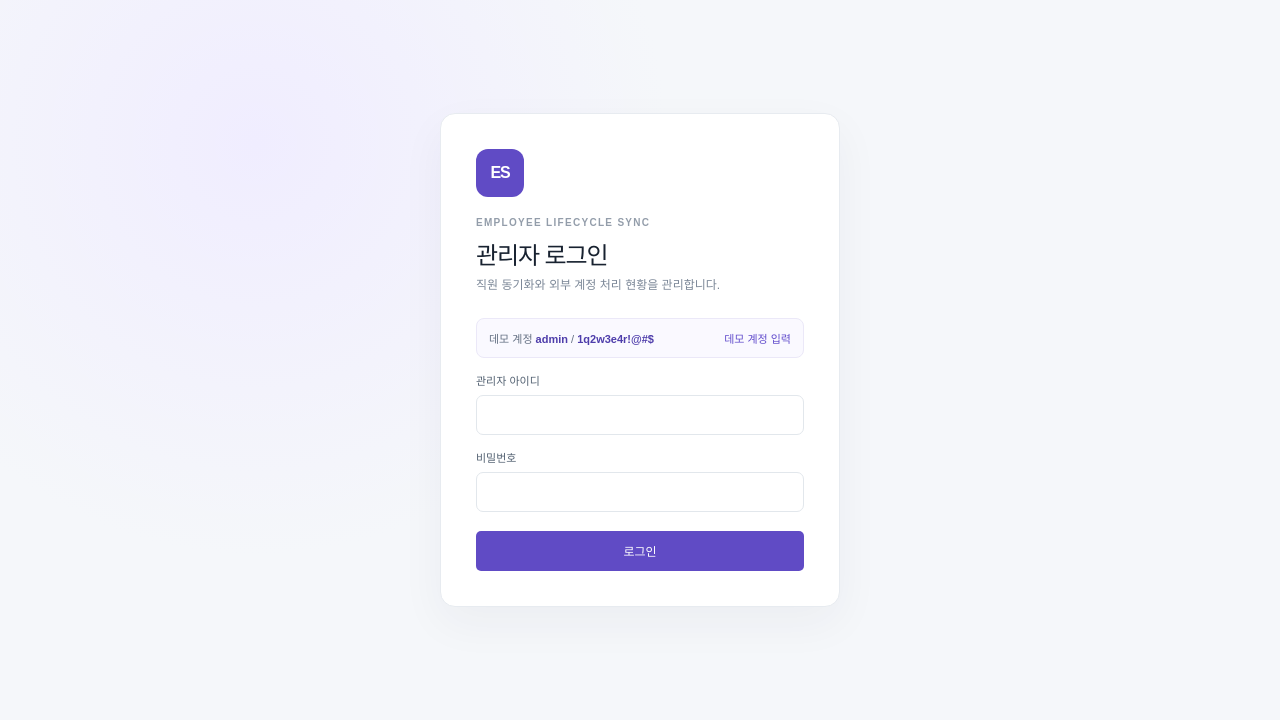
Test case: administrator shell and work dashboard › shows demo credentials and fills them before session and CSRF protected login
This screenshot has width=1280, height=720.
Expected: the text "admin" is shown, [536,333,568,345]
Expected: the text with test id "brand-lettermark" reads "ES", [490,164,510,181]
Click the button "데모 계정 입력" at [758, 338], box [724,330,791,346]
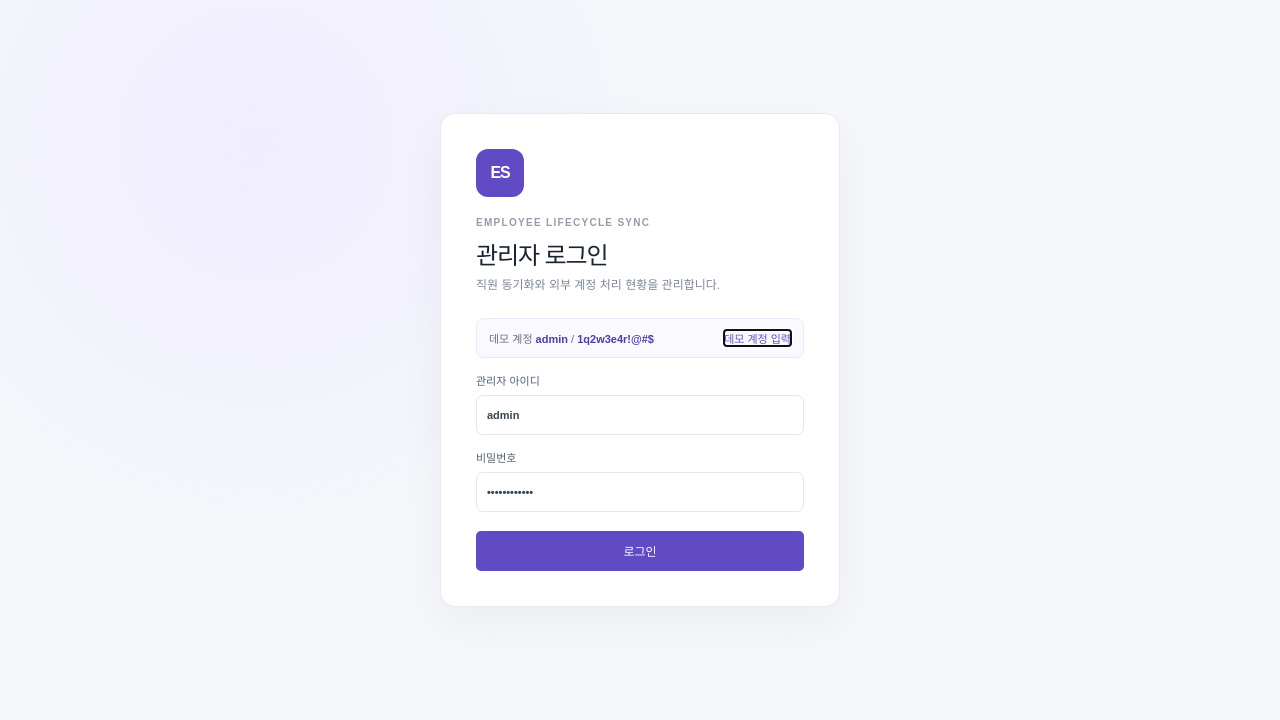
Result: the field labelled "관리자 아이디" holds "admin" at [476,395,804,435]
Result: the password field labelled "비밀번호" holds "1q2w3e4r!@#$" at [476,472,804,512]
Click the button "로그인" at [640, 551], box [476,531,804,571]
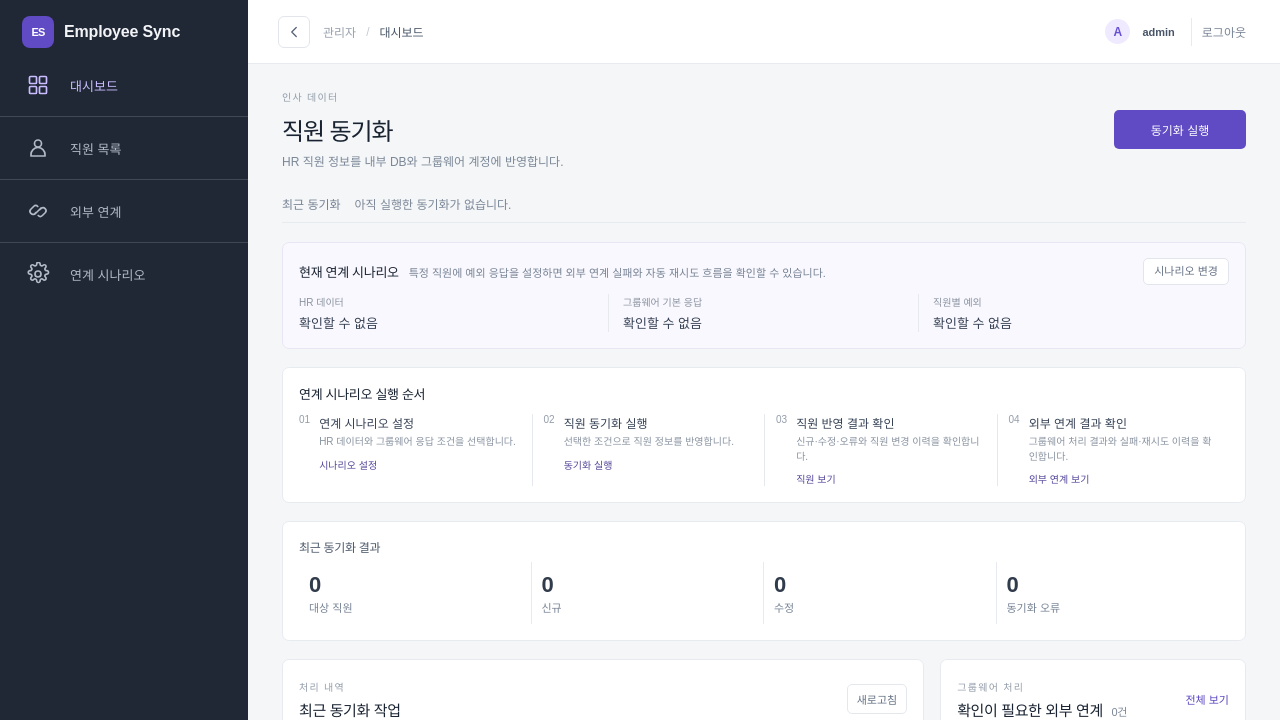
Result: the heading "직원 동기화" is shown at [282,118,393,145]
